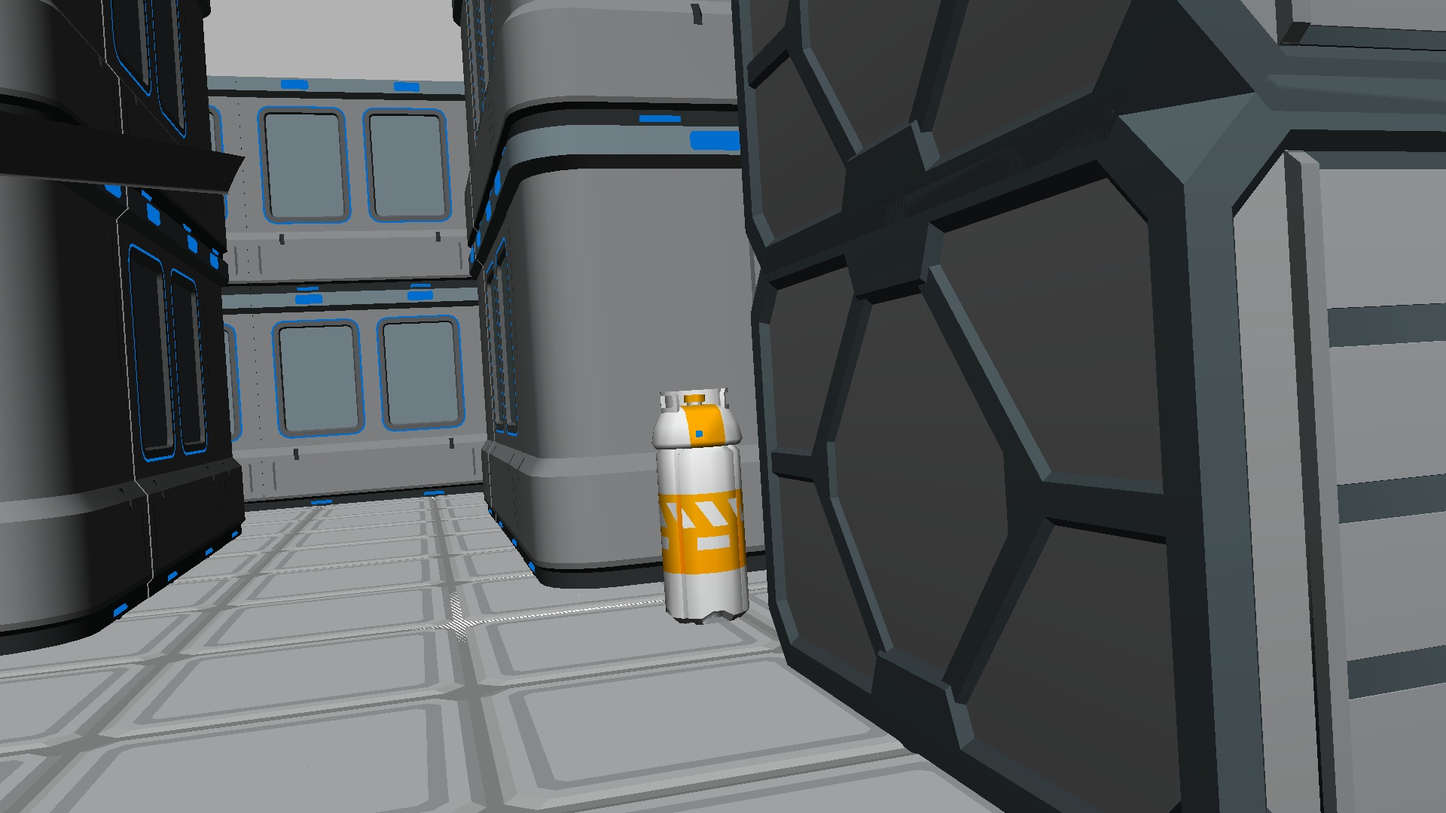yellow barrel: (651, 388, 748, 624)
